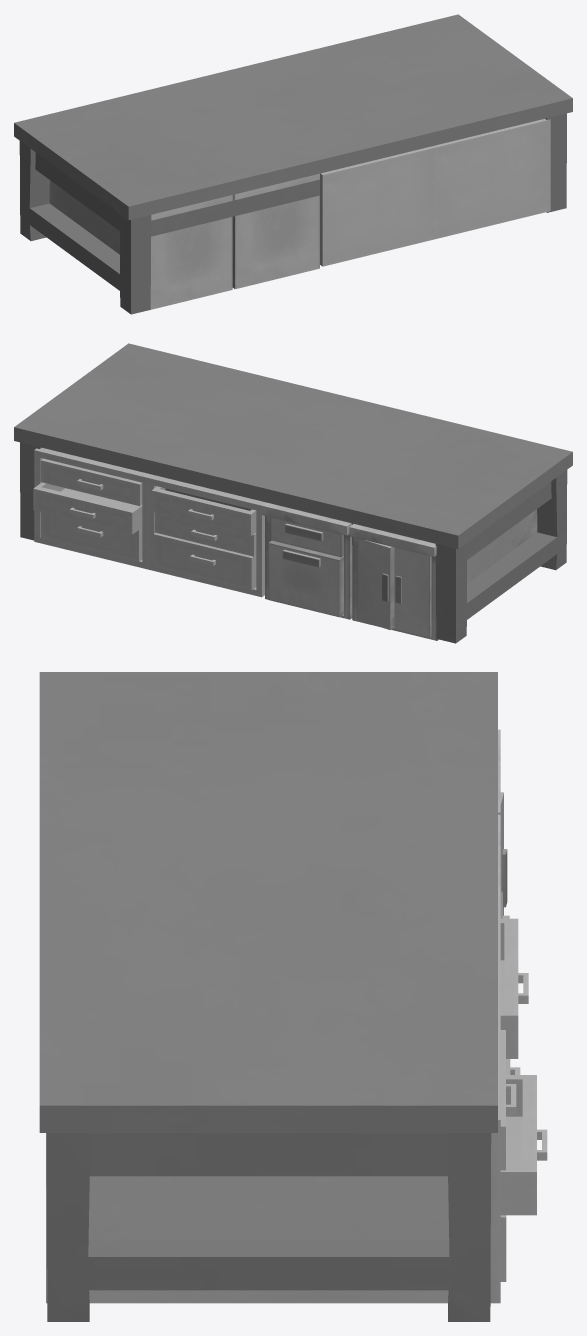
The model's file is Pfb_Table_02_2_JLAB_Temp.fbx.
3 views of the same model, one above another, from view 1: azimuth 30°, elevation 25°; view 2: azimuth 150°, elevation 25°; view 3: azimuth 270°, elevation 25° (orthographic). The views are drawn at different scales.
Visible parts, largest first — view 1: Mat_Table_02_White_JLAB 1, Kitchen 4, Kitchen; view 2: Mat_Table_02_White_JLAB 1, Kitchen 4, Kitchen; view 3: Mat_Table_02_White_JLAB 1, Kitchen 4, Kitchen.
Part boxes in pixels (box(x1,y1,x2,y2)): Mat_Table_02_White_JLAB 1: box(14, 14, 572, 314); Kitchen 4: box(320, 119, 550, 266); Kitchen: box(49, 173, 319, 309); Mat_Table_02_White_JLAB 1: box(14, 343, 572, 643); Kitchen 4: box(33, 448, 265, 597); Kitchen: box(262, 502, 537, 640); Mat_Table_02_White_JLAB 1: box(39, 672, 497, 1321); Kitchen 4: box(46, 897, 547, 1303); Kitchen: box(498, 729, 509, 918).
Size of the model in its own units: 2.78 by 0.6734 by 1.37.
3 materials, 3 textured.
